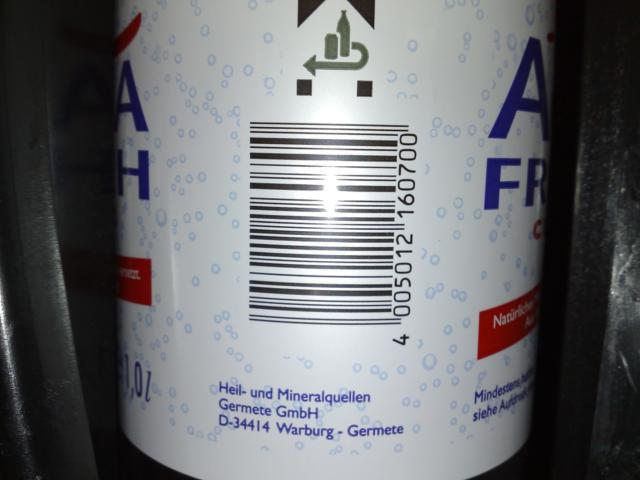Barcode: (242, 115, 426, 354)
